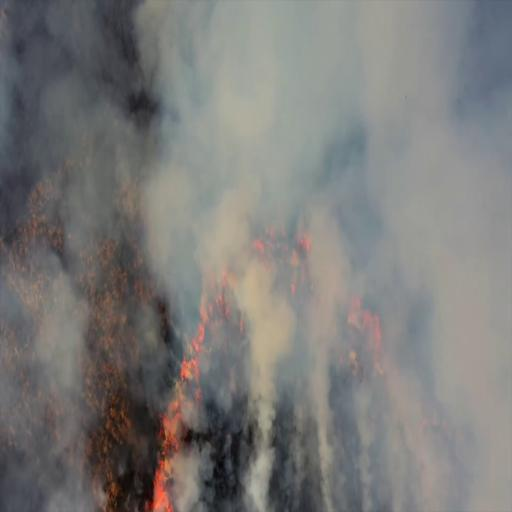fire: (182, 281, 219, 385), (146, 396, 177, 512)
smoke: (180, 0, 512, 190)
